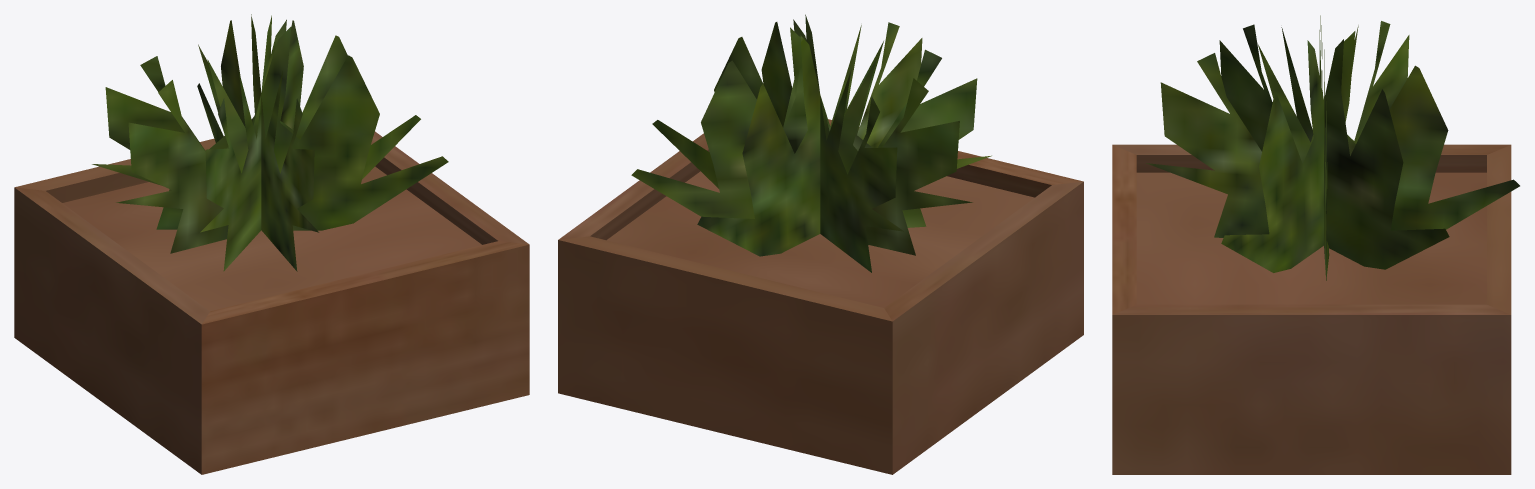
The model's file is plant3_1.dae.
3 views of the same model, side by side, from view 1: azimuth 30°, elevation 25°; view 2: azimuth 150°, elevation 25°; view 3: azimuth 270°, elevation 25° (orthographic). The views are drawn at different scales.
Parts seen in each view (by area): view 1: node; view 2: node; view 3: node.
Boxes of the visible parts, x1,y1,x2,y2 form: node: (14, 14, 529, 474); node: (558, 14, 1083, 474); node: (1112, 15, 1519, 474).
Bounding box in the file's own units: 0.1988 × 0.1956 × 0.2014.
1 material, 1 textured.
